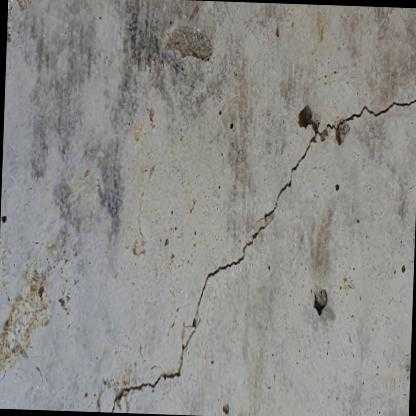crack: (109, 224, 265, 413), (251, 96, 416, 228)
